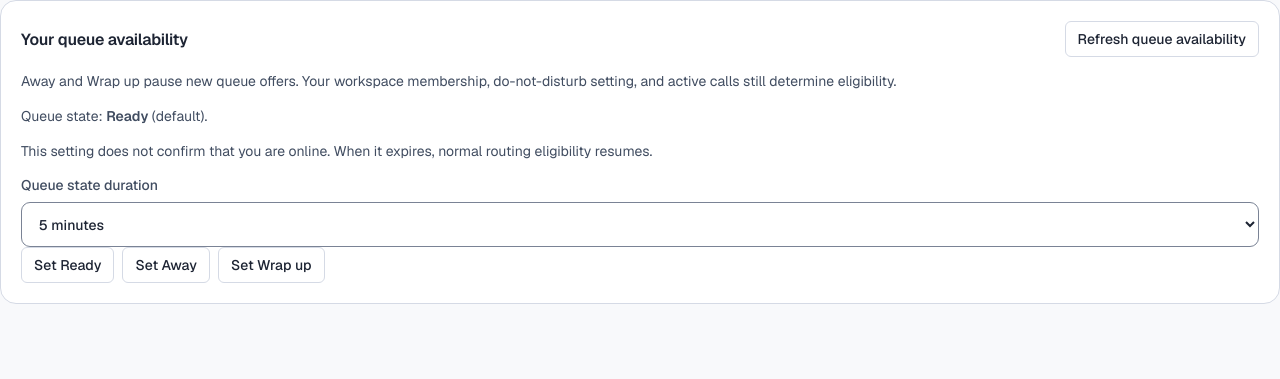
Test: caller menu and current queue controls › uses own retained state version and requires refresh after a stale write
The width and height of the screenshot is (1280, 379).
Expected: the text "Ready" is shown, [106,107,148,125]
Click the button "Set Away". click: (166, 265)
box: [122,247,210,283]
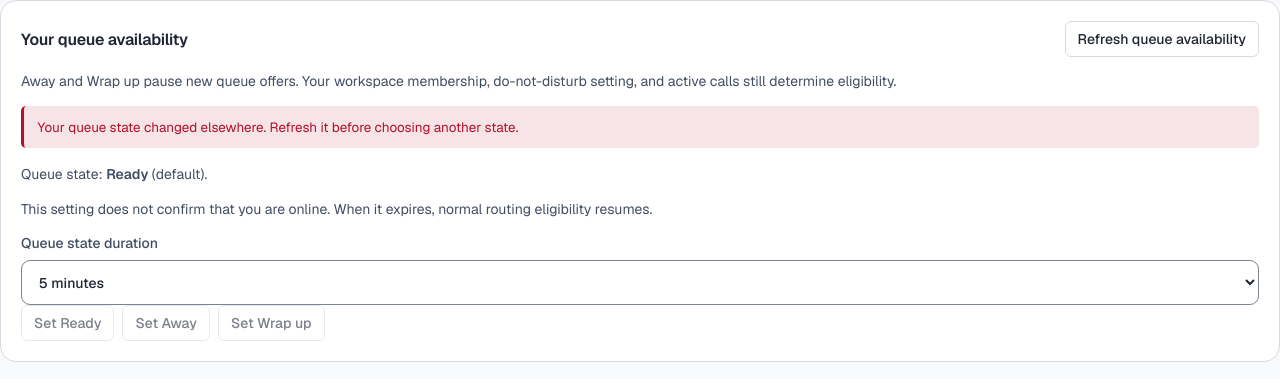
Result: the message "Your queue state changed elsewhere. Refresh it before choosing another state." is shown at [21,106,1259,148]
Result: the button "Set Ready" is disabled at [21,305,114,341]
